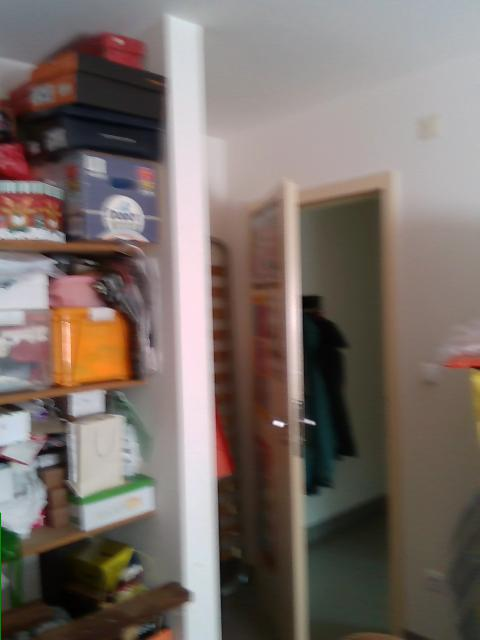semi_door: (242, 169, 399, 639)
